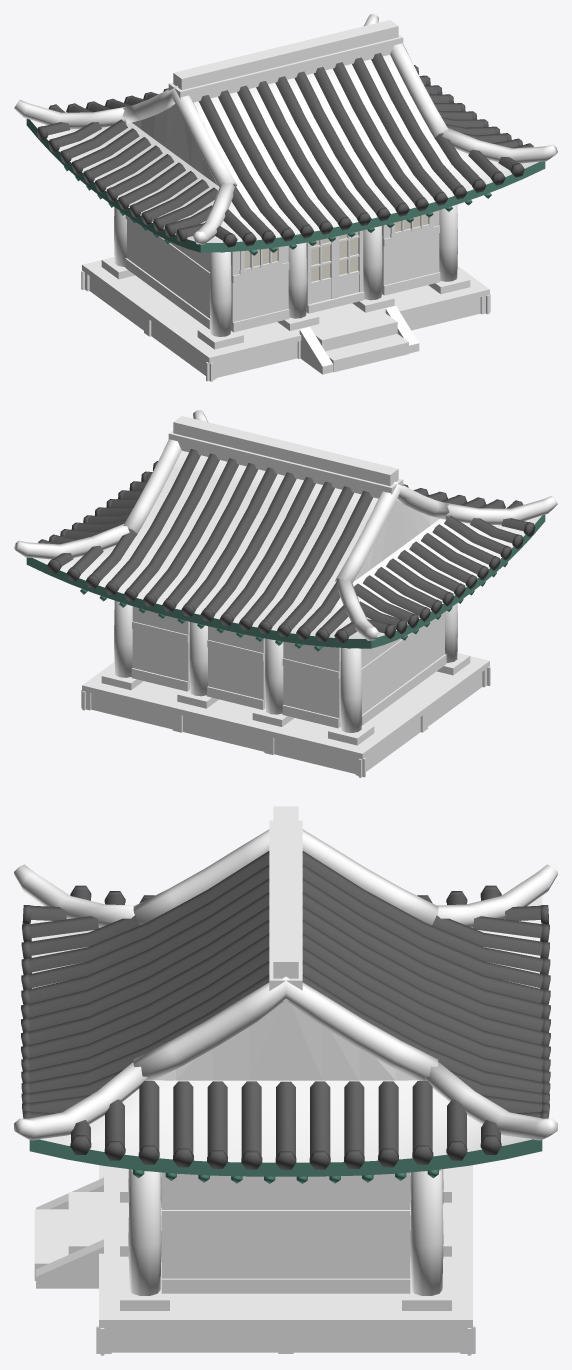
File: v_tile.glb
The picture shows the model from 3 angles, top to bottom: view 1: azimuth 30°, elevation 25°; view 2: azimuth 150°, elevation 25°; view 3: azimuth 270°, elevation 25°; orthographic projection. The views are drawn at different scales.
Visible parts, largest first — view 1: v_tile_giwa_row, v_tile_giwa, v_tile_red, v_tile_granite, v_tile_plaster, v_tile_plinth, v_tile_green, v_tile_paper; view 2: v_tile_giwa_row, v_tile_giwa, v_tile_red, v_tile_plaster, v_tile_granite, v_tile_plinth, v_tile_green; view 3: v_tile_giwa_row, v_tile_giwa, v_tile_granite, v_tile_red, v_tile_plaster, v_tile_plinth, v_tile_green.
Part boxes in pixels (box(x1,y1,x2,y2)): v_tile_giwa_row: box(36, 53, 533, 247); v_tile_giwa: box(14, 14, 557, 244); v_tile_red: box(114, 104, 457, 336); v_tile_granite: box(81, 257, 490, 381); v_tile_plaster: box(127, 210, 439, 322); v_tile_plinth: box(89, 276, 480, 377); v_tile_green: box(26, 119, 545, 255); v_tile_paper: box(244, 214, 428, 281); v_tile_giwa_row: box(38, 449, 535, 643); v_tile_giwa: box(14, 410, 557, 640); v_tile_red: box(114, 500, 457, 732); v_tile_plaster: box(132, 606, 444, 718); v_tile_granite: box(81, 653, 490, 777); v_tile_plinth: box(91, 672, 482, 773); v_tile_green: box(26, 515, 545, 651); v_tile_giwa_row: box(21, 851, 550, 1169); v_tile_giwa: box(14, 806, 557, 1162); v_tile_granite: box(36, 1165, 475, 1355); v_tile_red: box(128, 1001, 443, 1295); v_tile_plaster: box(161, 1172, 410, 1278); v_tile_plinth: box(34, 1209, 460, 1352); v_tile_green: box(29, 1139, 542, 1183).
Bounding box in the file's own units: 4.82 × 3.18 × 4.24.
